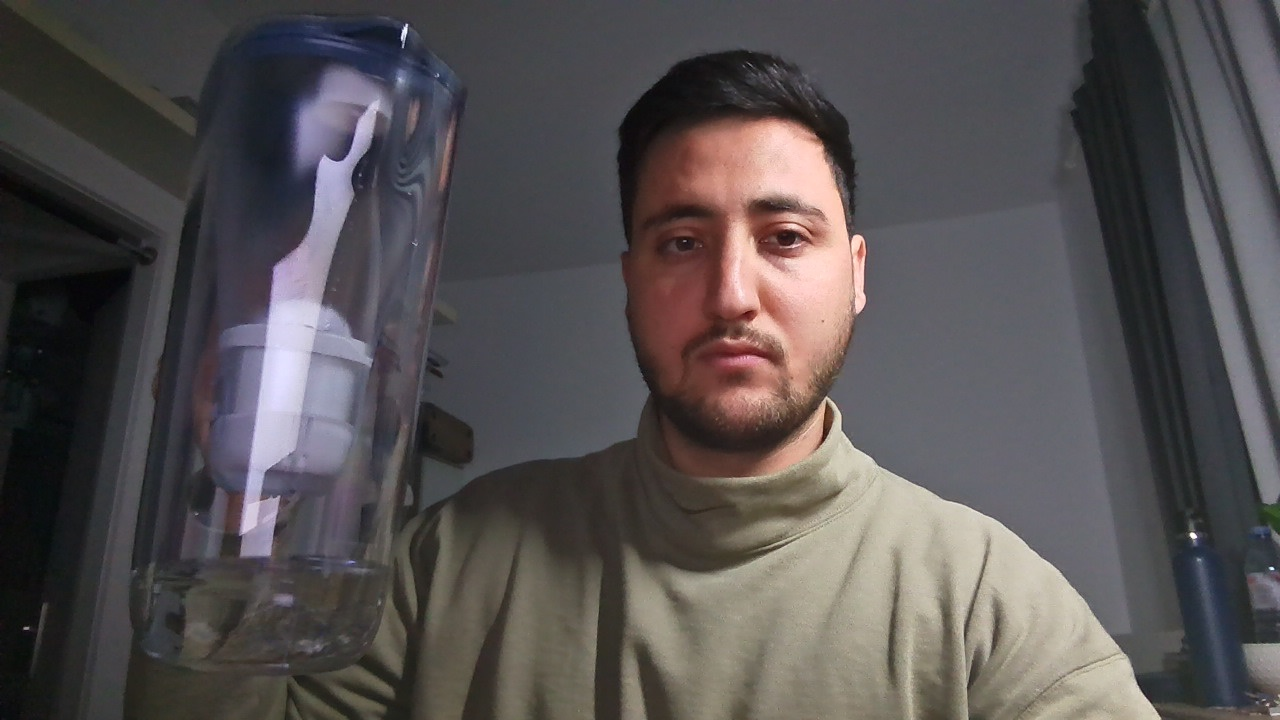Wasserflasche: (1153, 493, 1257, 710)
Wasserkanne: (116, 13, 439, 681)
me: (587, 39, 885, 470)
